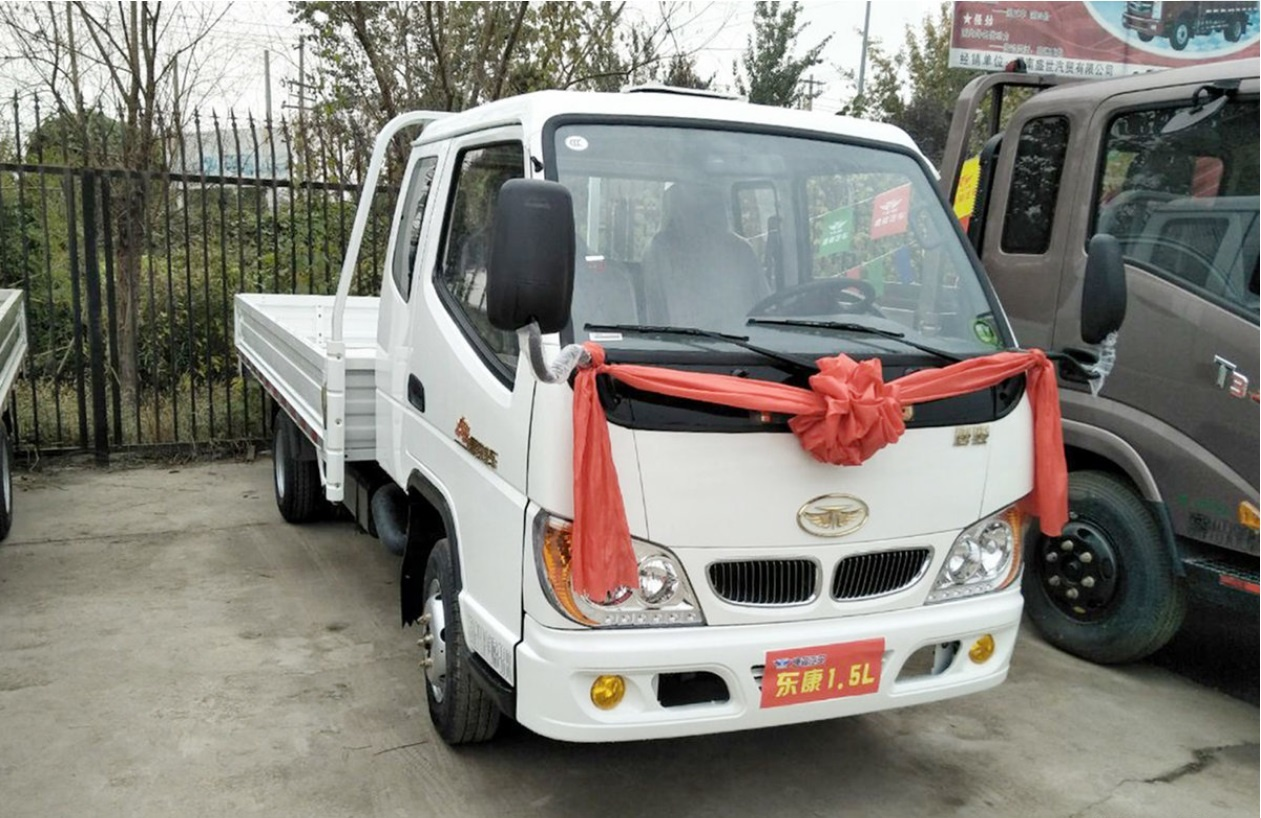truck: (221, 87, 1049, 785)
